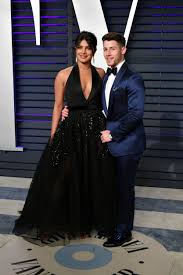black_female: (76, 37, 95, 70)
